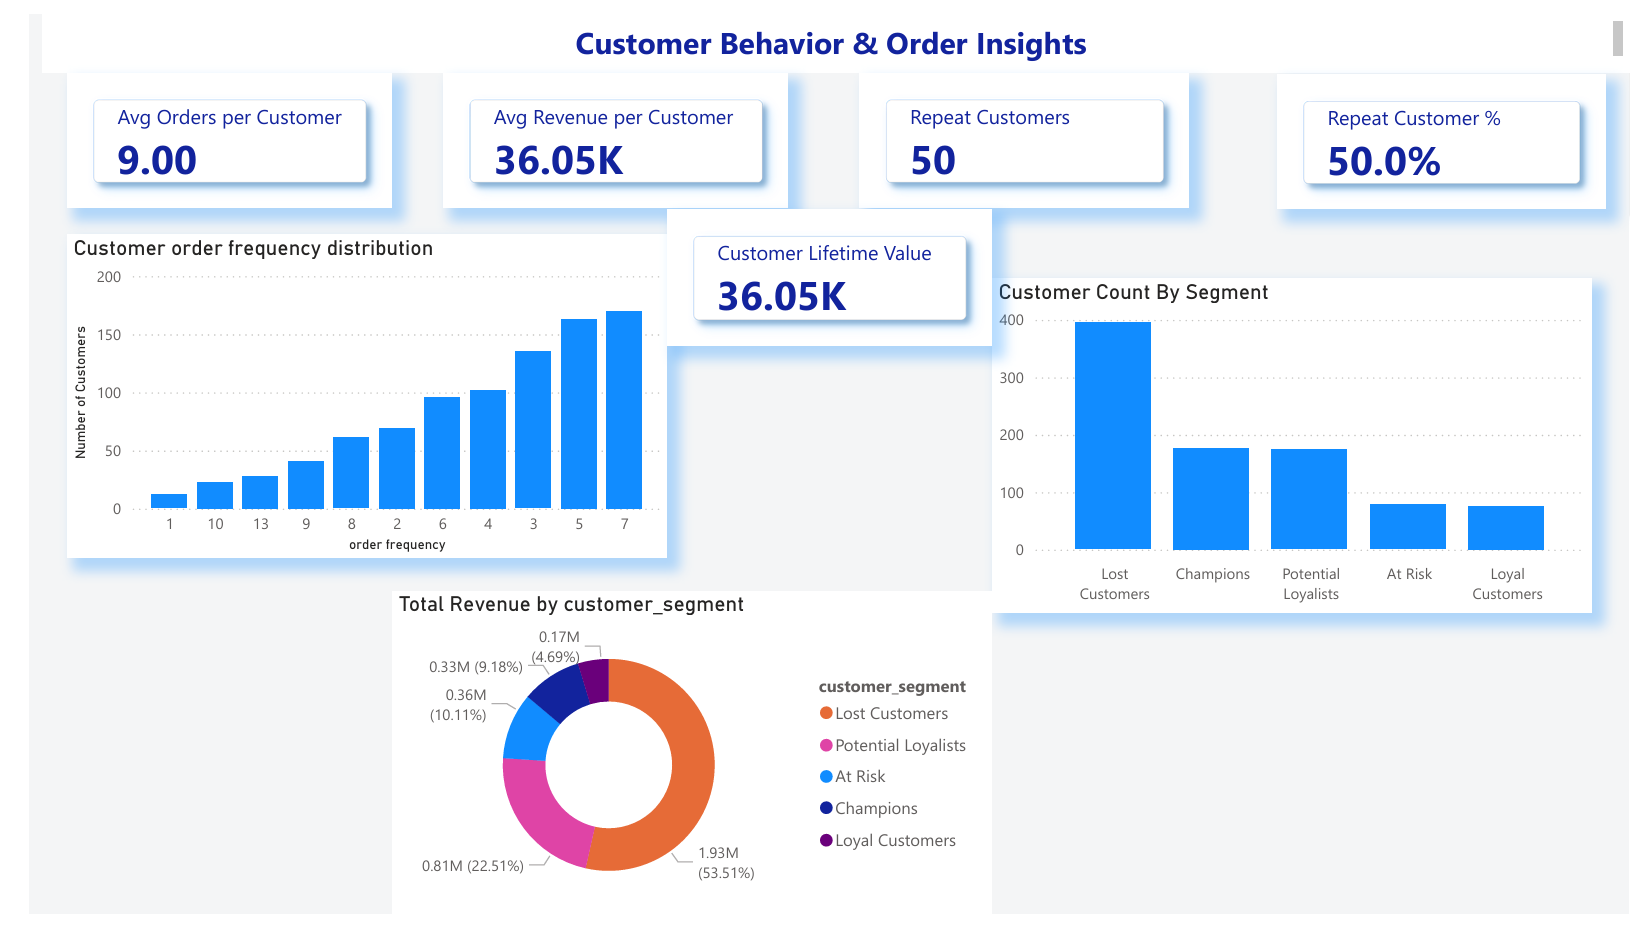

The page's visual inventory and layout, read from the dashboard file:
{"tool":"powerbi","page":{"name":"Page 4","canvas":[1280,720],"ordinal":3},"visuals":[{"type":"textbox","box":[9.6,0,1270.7,46.7],"z":0},{"type":"cardVisual","fields":{"Data":["orders.Avg Orders per Customer"]},"box":[30.2,46.7,259.3,108.4],"z":1},{"type":"cardVisual","fields":{"Data":["orders.Avg Revenue per Customer"]},"box":[330.7,46.7,275.8,108.4],"z":2},{"type":"cardVisual","fields":{"Data":["orders.Repeat Customers"]},"box":[664.2,46.7,263.5,108.4],"z":3},{"type":"cardVisual","fields":{"Data":["orders.Repeat Customer %"]},"box":[997.6,48,263.5,108.4],"z":4},{"type":"clusteredColumnChart","title":"Customer order frequency distribution","fields":{"Category":["rfm_segment_view.frequency_orders"],"Y":["CountNonNull(orders.customer_id)"]},"box":[30.2,175.6,480.3,259.3],"z":5},{"type":"clusteredColumnChart","title":"Customer Count By Segment","fields":{"Category":["rfm_segment_view.customer_segment"],"Y":["CountNonNull(orders.customer_id)"]},"box":[769.8,211.3,480.3,267.6],"z":6},{"type":"donutChart","fields":{"Category":["rfm_segment_view.customer_segment"],"Y":["order_items.Total Revenue"]},"box":[289.5,461.1,480.3,259.3],"z":7},{"type":"cardVisual","fields":{"Data":["customers.Customer Lifetime Value"]},"box":[510.5,156.4,259.3,108.4],"z":8}]}

Visuals, with their boxes in screenshot pixels (x1, y1, x2, y2), scaled from the page's 1280x720 canvas onto the 1651x929 screenshot:
textbox: select_region(12, 0, 1650, 60)
cardVisual - orders.Avg Orders per Customer: select_region(39, 60, 373, 200)
cardVisual - orders.Avg Revenue per Customer: select_region(427, 60, 782, 200)
cardVisual - orders.Repeat Customers: select_region(857, 60, 1197, 200)
cardVisual - orders.Repeat Customer %: select_region(1287, 62, 1627, 202)
"Customer order frequency distribution" clusteredColumnChart: select_region(39, 227, 658, 561)
"Customer Count By Segment" clusteredColumnChart: select_region(993, 273, 1612, 618)
donutChart - rfm_segment_view.customer_segment x order_items.Total Revenue: select_region(373, 595, 993, 928)
cardVisual - customers.Customer Lifetime Value: select_region(658, 202, 993, 342)
